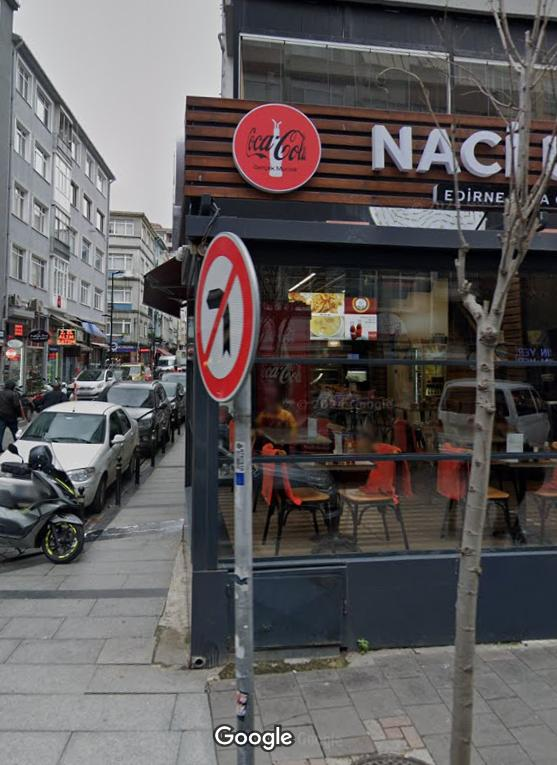leftturnsareforbidden: (199, 239, 257, 398)
